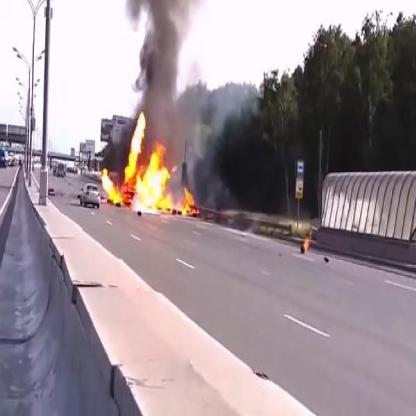fire: (95, 110, 199, 220), (304, 228, 314, 251)
